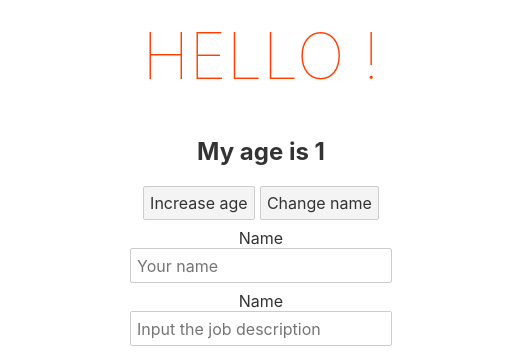
Scenario: set input name value on the title h1
Type "Andres" into the field with placeholder "Your name". click: (261, 266)
box: [130,248,392,283]
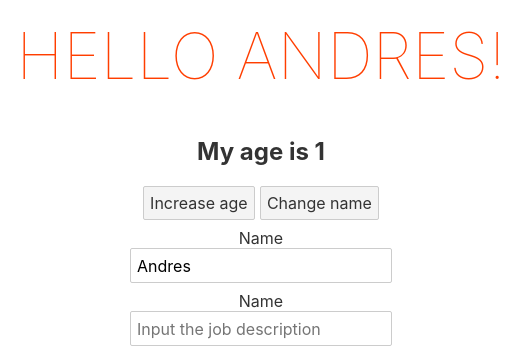
expect the heading "Hello Andres!" is shown: met, box [16,17,506,94]
